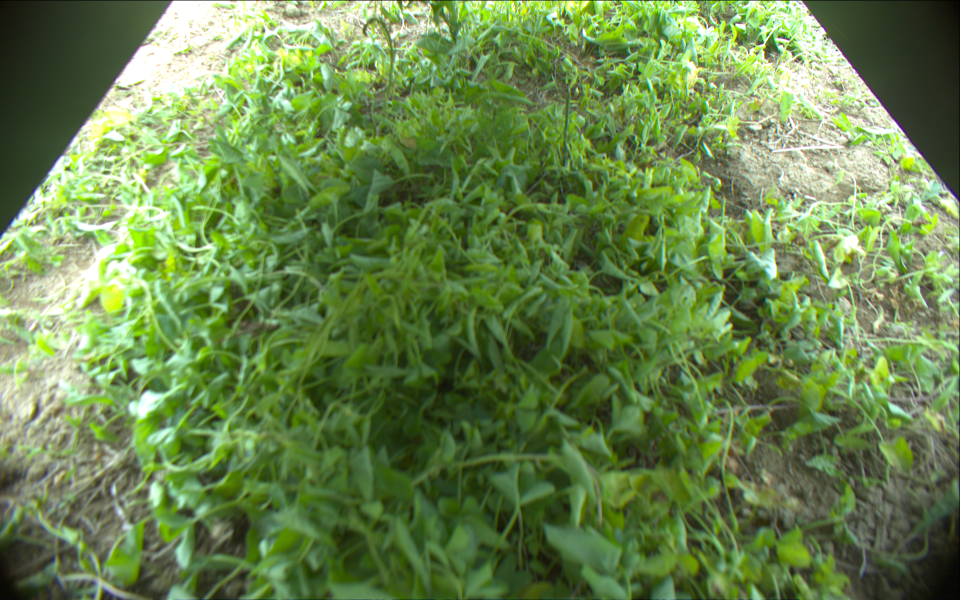aspa: (364, 18, 395, 88), (562, 79, 570, 164)
